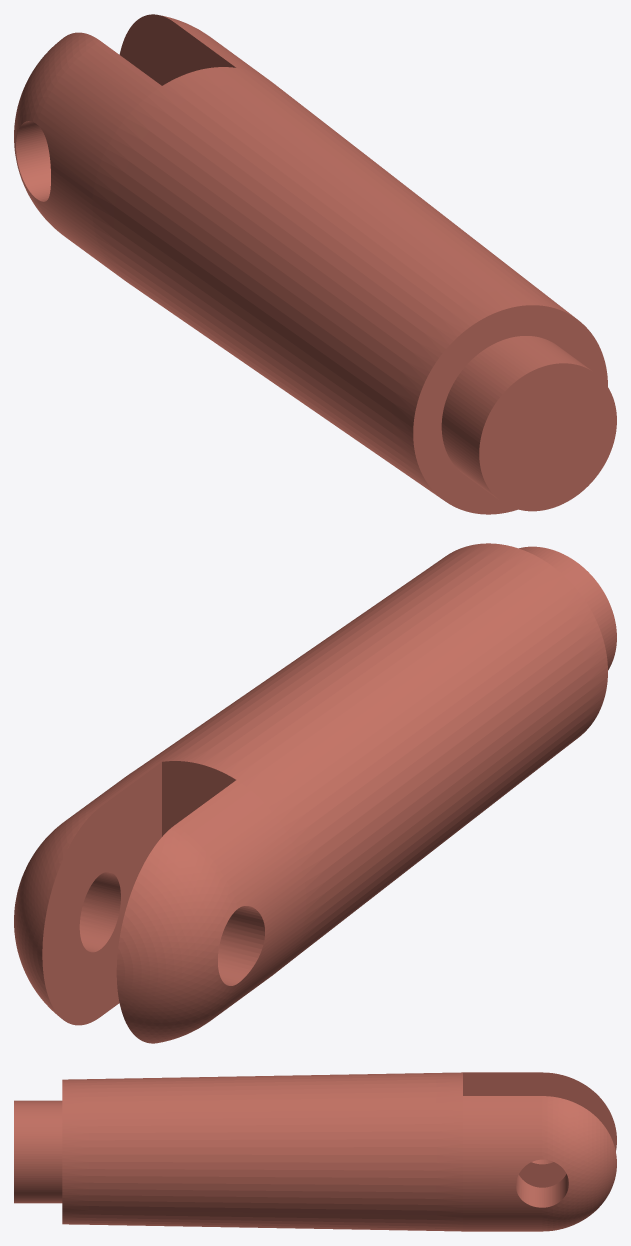
The picture shows the model from 3 angles, top to bottom: view 1: azimuth 30°, elevation 25°; view 2: azimuth 150°, elevation 25°; view 3: azimuth 270°, elevation 25°; orthographic projection. The views are drawn at different scales.
Parts seen in each view (by area): view 1: node; view 2: node; view 3: node.
Boxes of the visible parts, bbox=[...] form: node: bbox=[14, 14, 616, 514]; node: bbox=[14, 543, 616, 1043]; node: bbox=[14, 1072, 616, 1231].
Bounding box in the file's own units: 0.0993 × 0.0992 × 0.3763.
